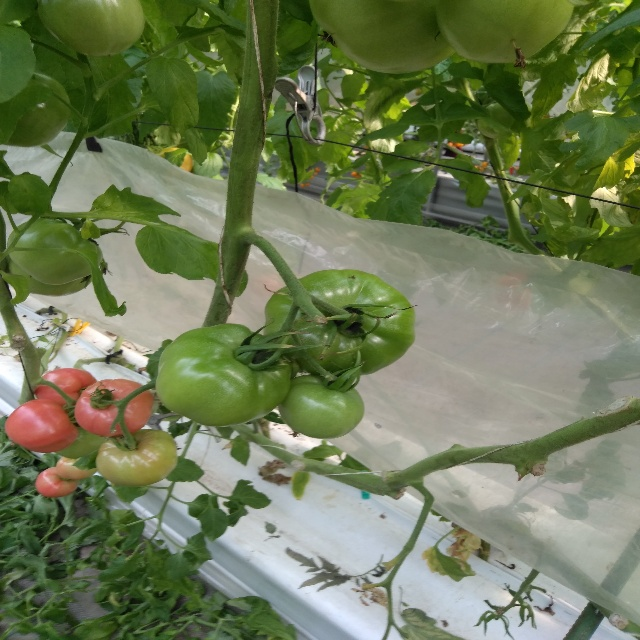b_fully_ripened: (74, 378, 154, 436), (6, 399, 79, 453), (38, 367, 96, 412)
b_green: (264, 268, 417, 378), (155, 323, 292, 427), (310, 1, 456, 75), (435, 0, 576, 63), (5, 219, 102, 285), (35, 0, 145, 57), (280, 375, 365, 438)
b_half_ripened: (96, 430, 177, 488), (35, 467, 79, 498), (57, 458, 98, 479)
